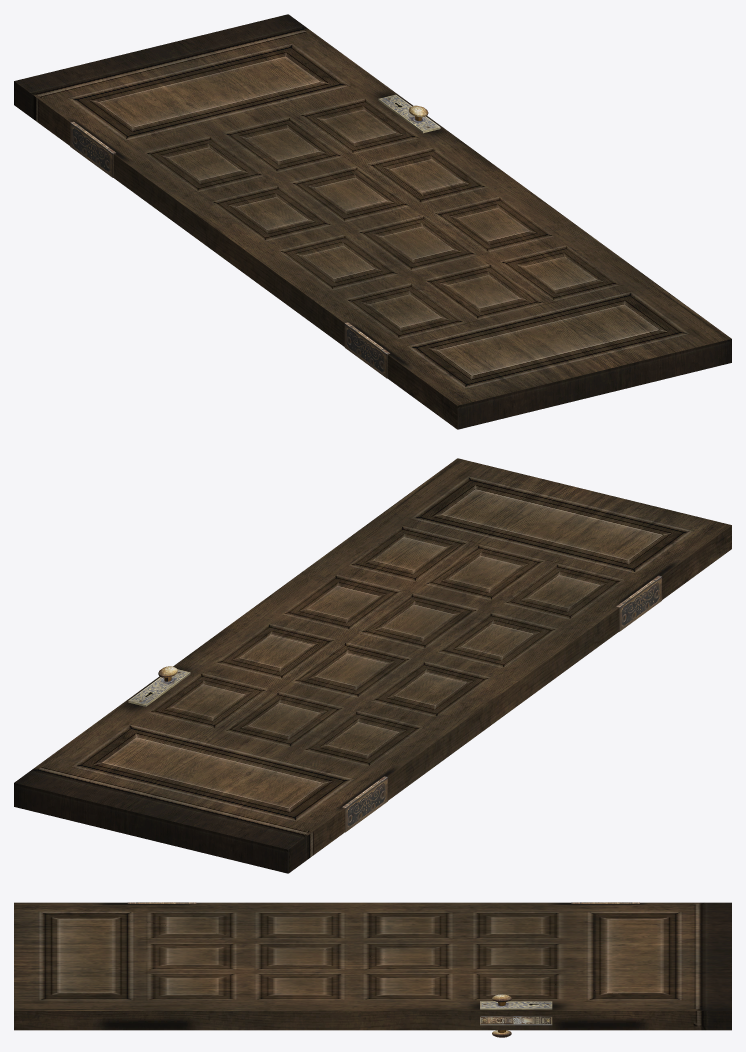
File: door.obj
The picture shows the model from 3 angles, top to bottom: view 1: azimuth 30°, elevation 25°; view 2: azimuth 150°, elevation 25°; view 3: azimuth 270°, elevation 25°; orthographic projection. The views are drawn at different scales.
Visible parts, largest first — view 1: DOORS_Static_Court_Wooden_192x384; view 2: DOORS_Static_Court_Wooden_192x384; view 3: DOORS_Static_Court_Wooden_192x384.
Boxes of the visible parts, x1,y1,x2,y2 form: DOORS_Static_Court_Wooden_192x384: (14, 14, 731, 429); DOORS_Static_Court_Wooden_192x384: (14, 458, 731, 873); DOORS_Static_Court_Wooden_192x384: (14, 902, 731, 1037).
Size of the model in its own units: 0.9626 by 0.1682 by 2.69.
1 material, 1 textured.
